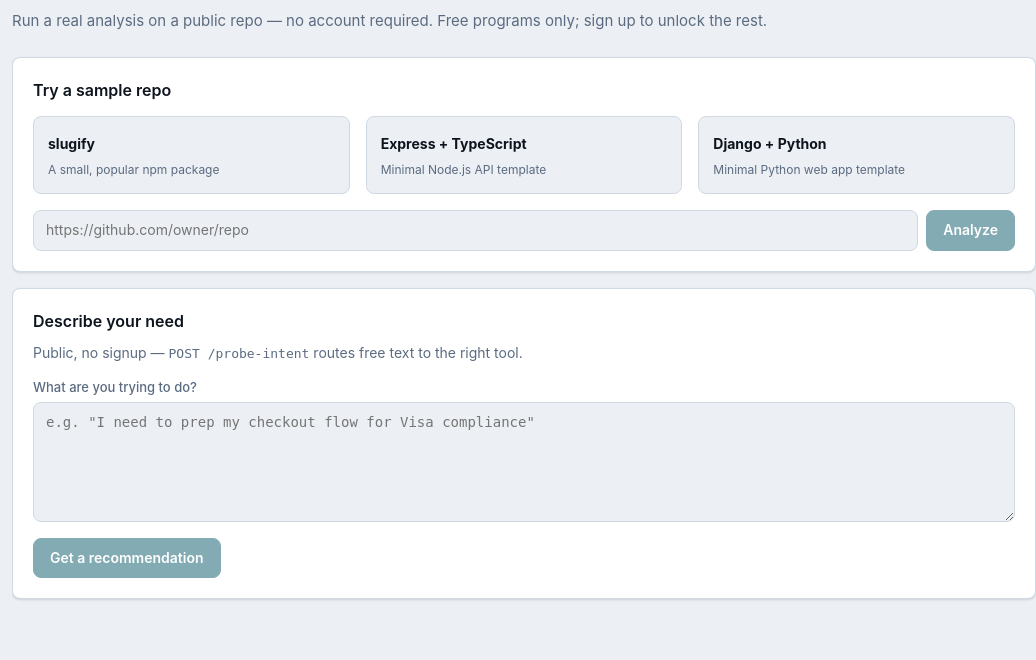
PlaygroundPage — running a real analysis › clicking a different generated file swaps the preview
Click the text "slugify". click: x=72, y=143
box: [48,135,95,152]
(page scrolled)
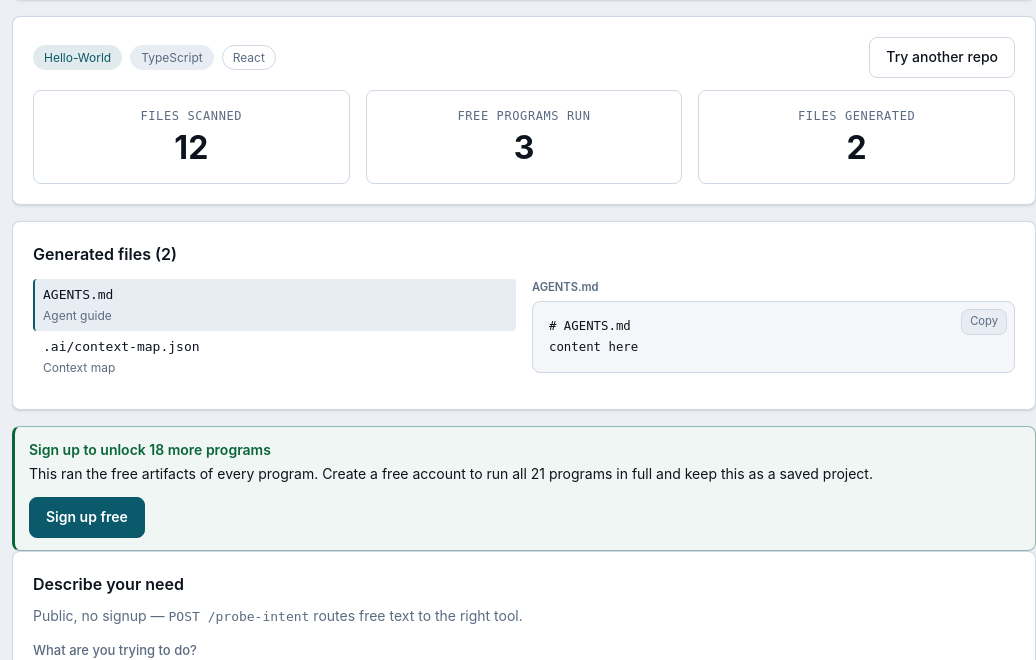
Check: the button "AGENTS.md Agent guide" is shown, box [33,279,516,331]
Click the button ".ai/context-map.json Context map". click: x=121, y=347
box: [33,331,516,383]
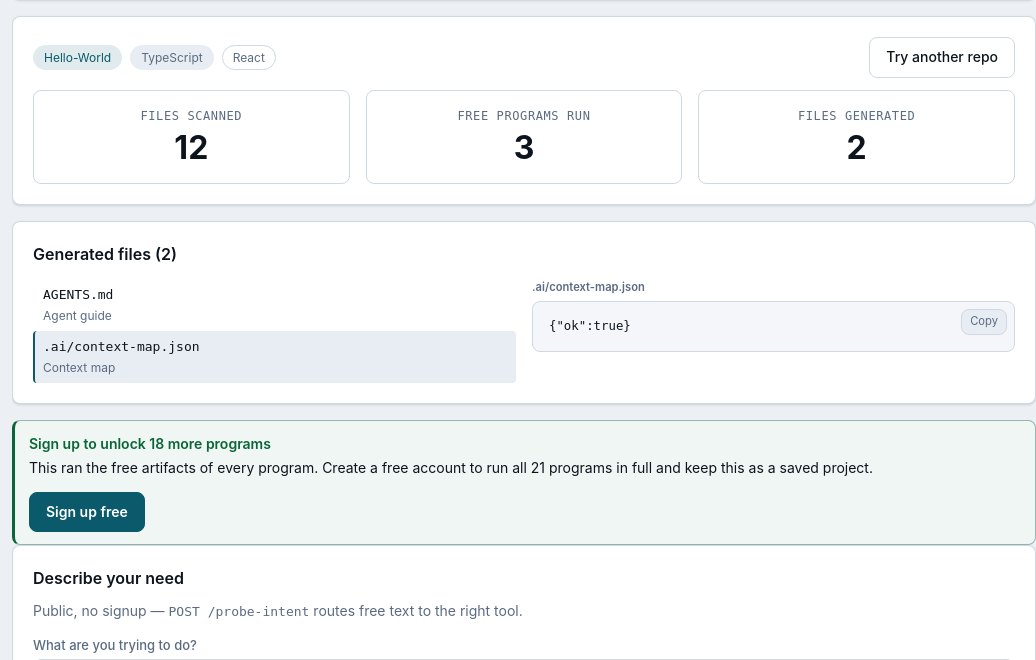
Check: the text "{\"ok\":true}" is shown, box [549,319,631,333]
